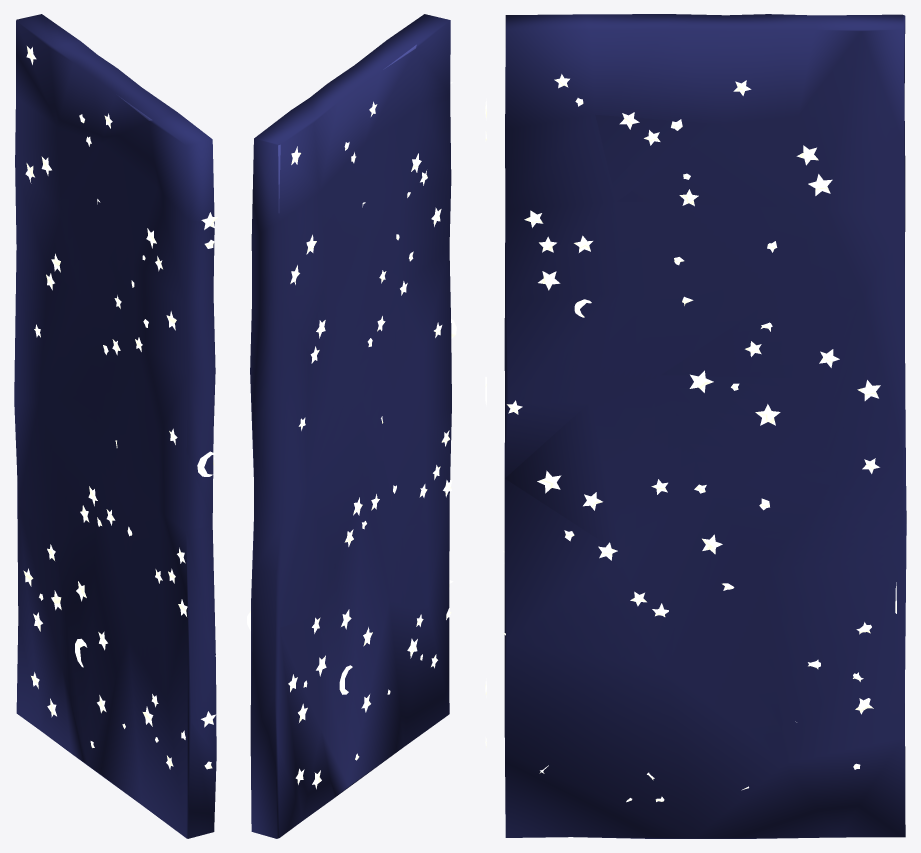
File: den_night_panel_lod1.glb
3 views of the same model, side by side, from view 1: azimuth 30°, elevation 25°; view 2: azimuth 150°, elevation 25°; view 3: azimuth 270°, elevation 25° (orthographic). The views are drawn at different scales.
Parts seen in each view (by area): view 1: den_night_panel.001; view 2: den_night_panel.001; view 3: den_night_panel.001.
Part boxes in pixels (x1,y1,x2,y2): den_night_panel.001: (14,14,217,838); den_night_panel.001: (247,14,456,838); den_night_panel.001: (485,14,906,838).
Bounding box in the file's own units: 2 × 34.96 × 16.48.
